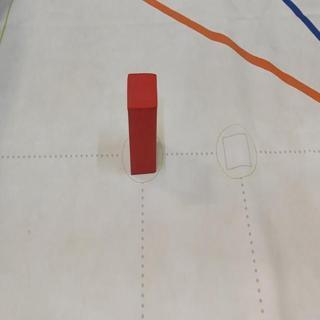redbox: (127, 71, 158, 174)
